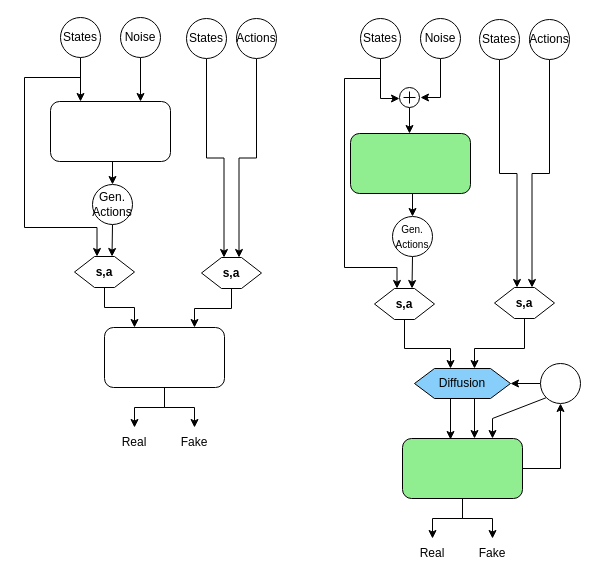
This 598x586 diagram has some shape labels left out. The box of each missing label's shape, as (x1, y1, x2, y2) in pixels:
Discriminator: (104, 326, 224, 388)
Discriminator D(s',a',t): (402, 438, 522, 498)
Generator (Policy): (50, 100, 170, 162)
Generator (Policy) a~π(s): (350, 132, 470, 194)
t~P(T): (540, 362, 580, 404)
